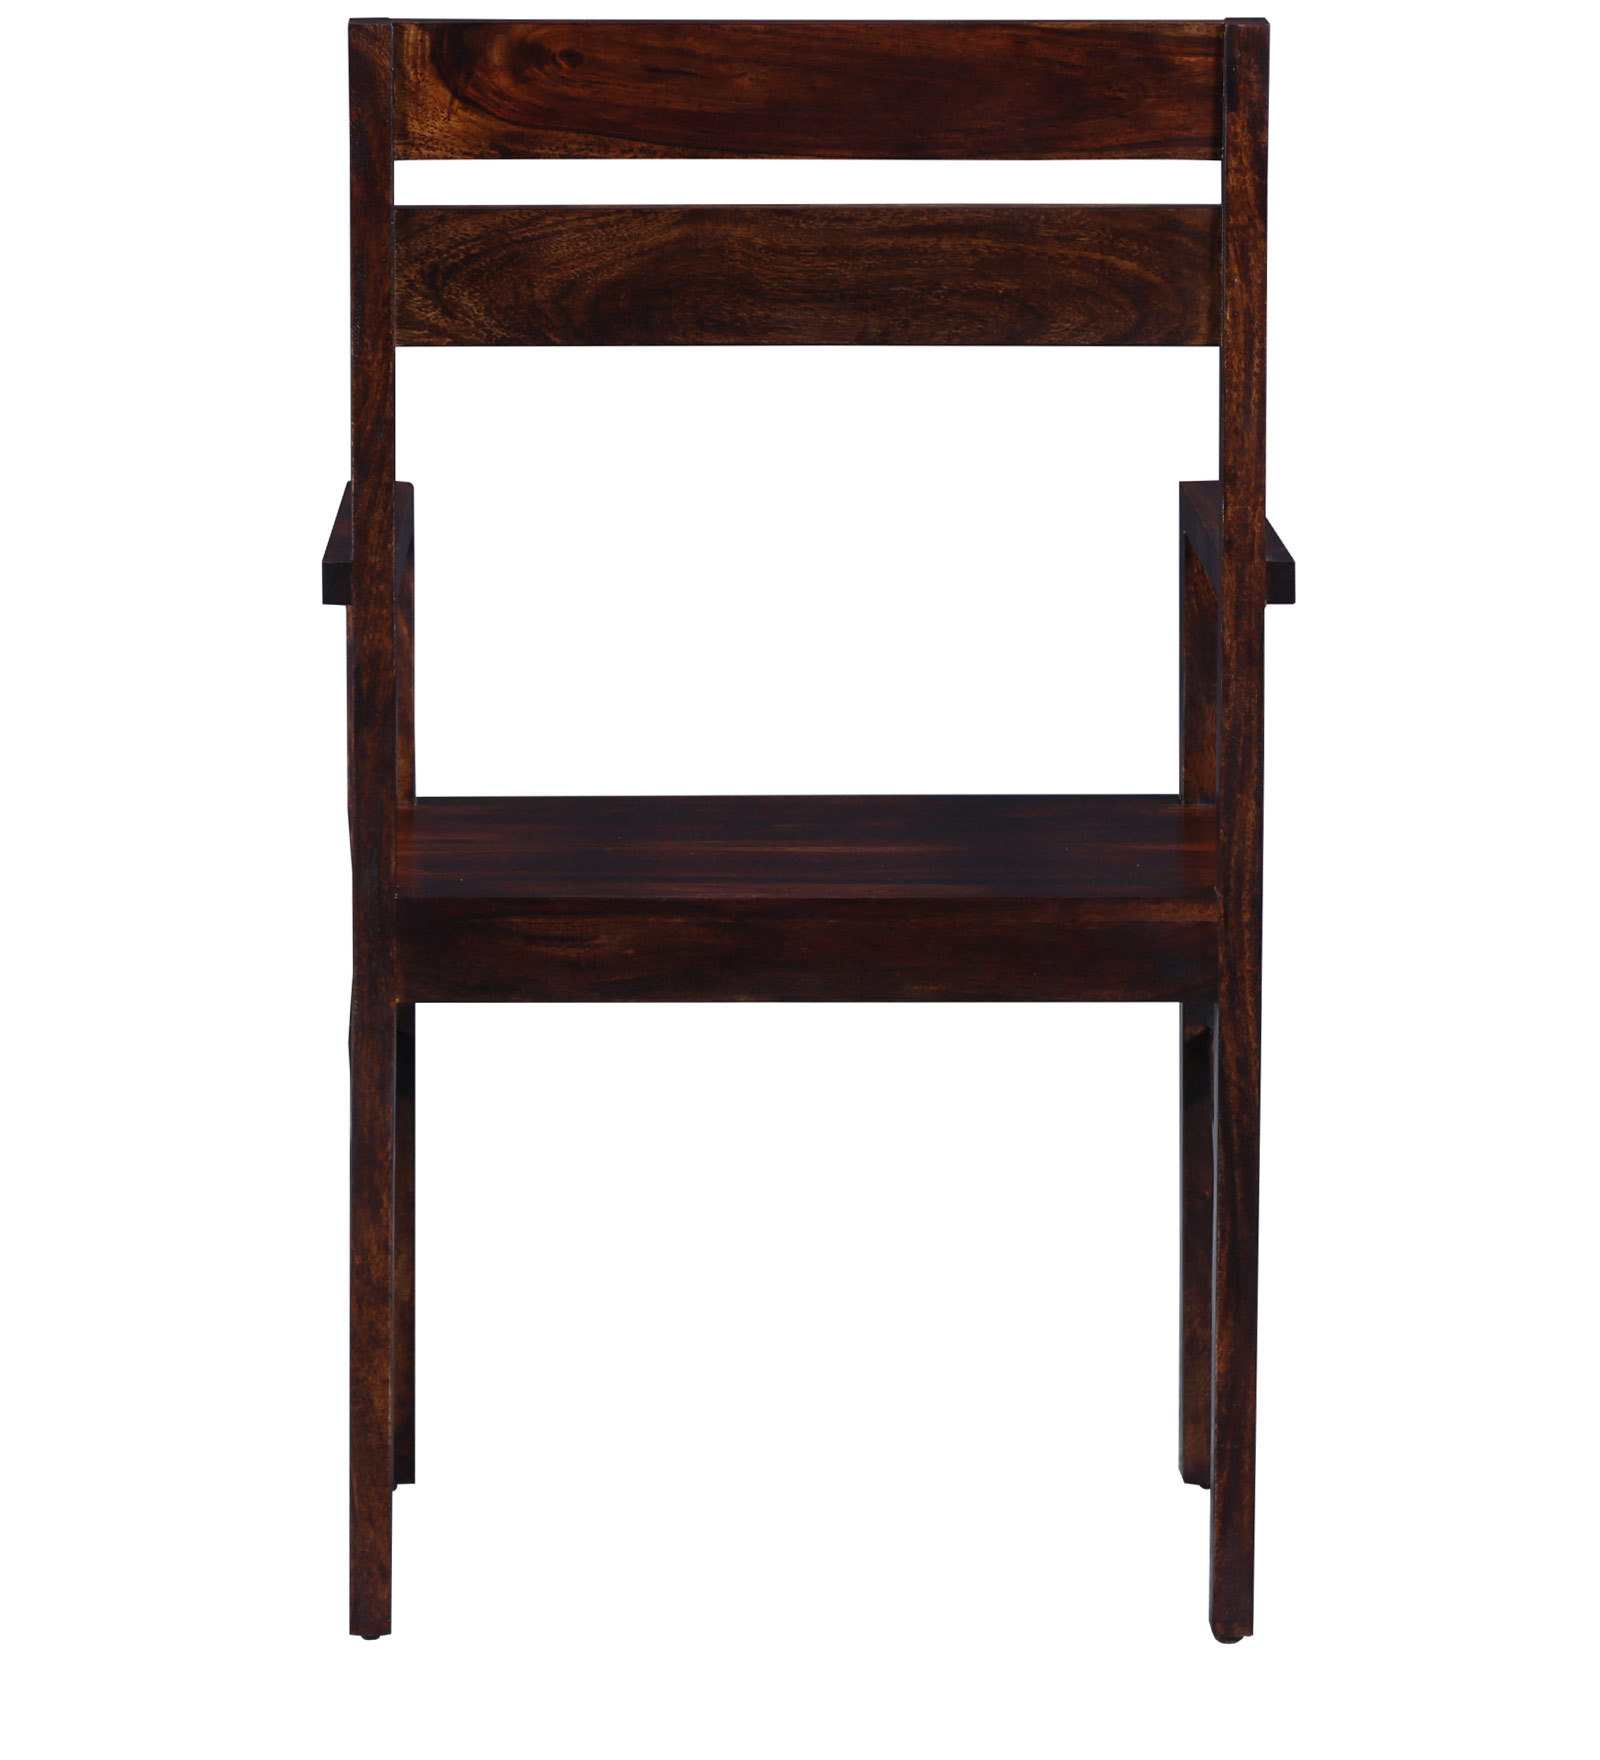Enkel Arm Chair in Provincial Teak Finish by Woodsworth: (297, 12, 1298, 1688)
